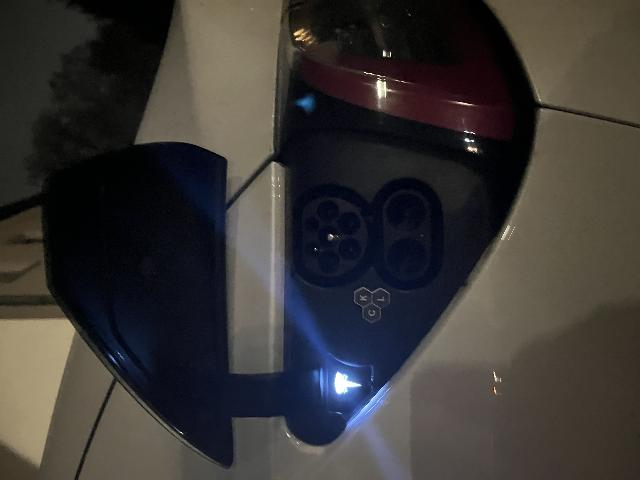inlet: (203, 302, 283, 368)
inlet-above-left: (221, 305, 239, 320)
inlet-above-right: (248, 304, 263, 319)
inlet-below-left: (219, 339, 242, 360)
inlet-below-right: (245, 337, 267, 360)
inlet-circle: (232, 318, 254, 339)
inlet-circle-left: (207, 318, 229, 339)
inlet-circle-right: (258, 317, 280, 338)
inlet-minus: (248, 386, 286, 425)
inlet-plus: (205, 388, 242, 426)
